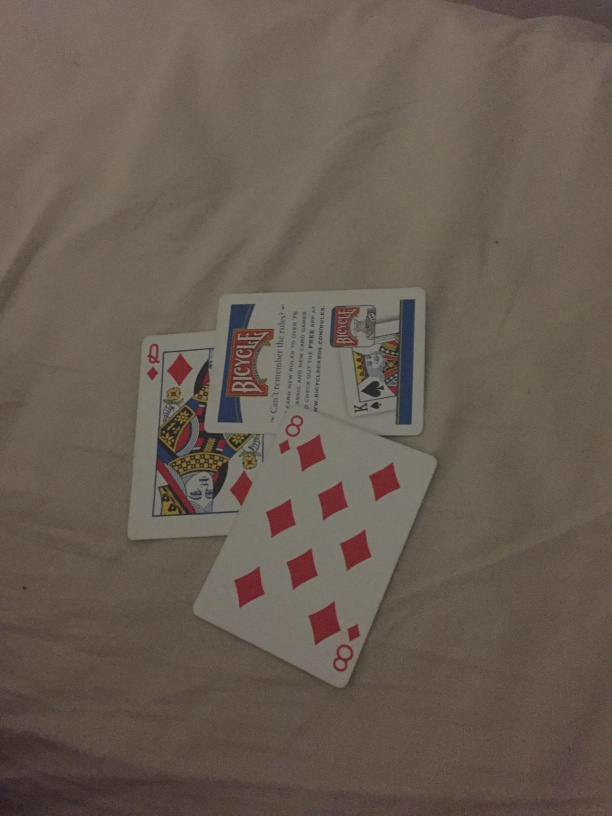8: (191, 406, 449, 690)
queen: (126, 329, 276, 542)
